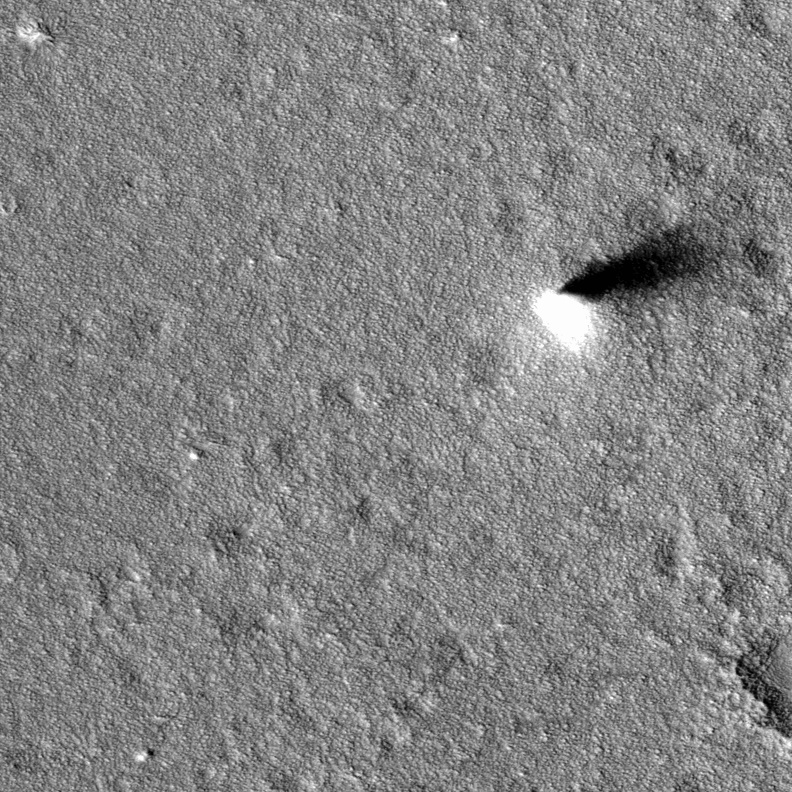dust_devil: (524, 220, 716, 358)
